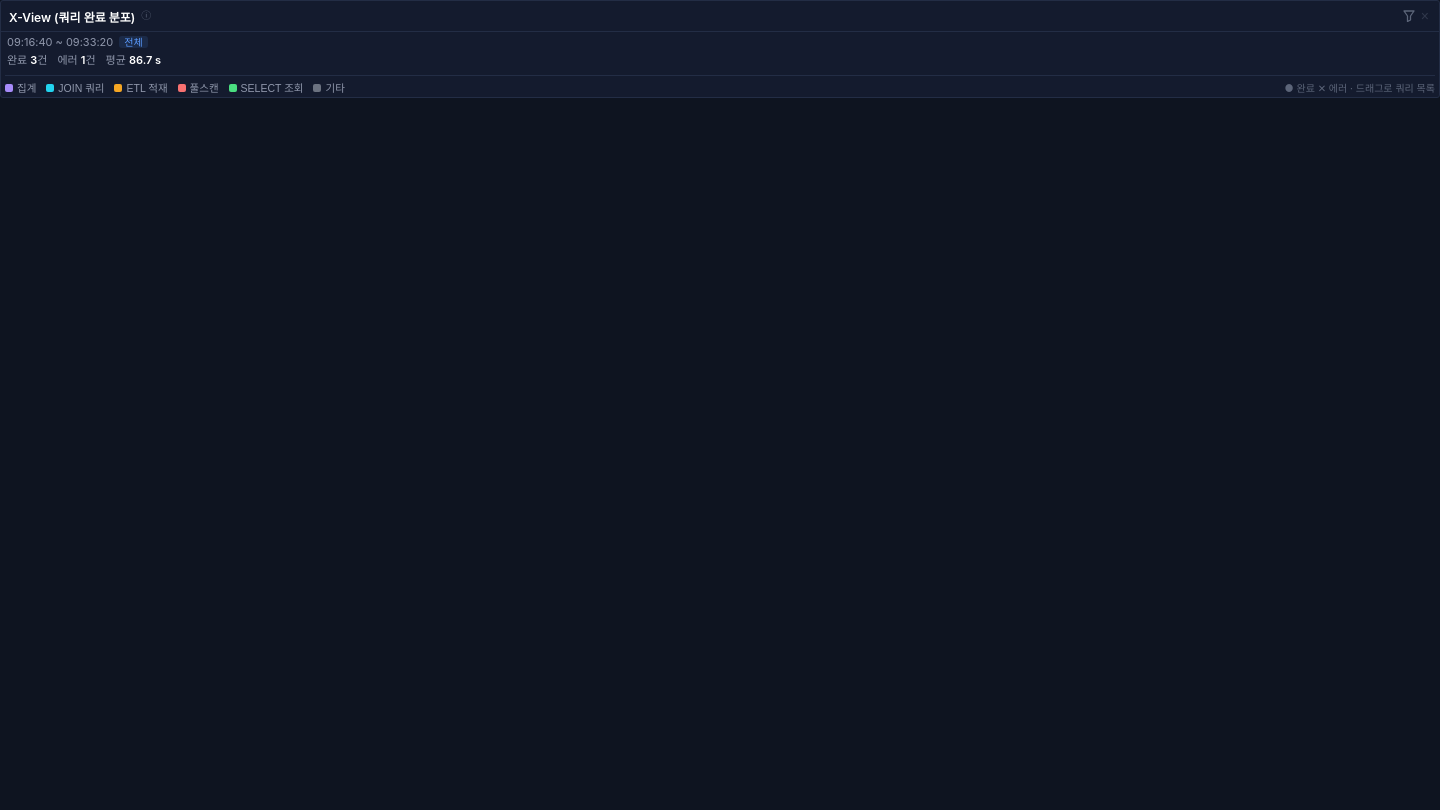
Test: XViewPanel — 요약행은 표시 이벤트 집합에서 계산 (XR-04) › 표시 필터(X4): 아이콘 → 팝오버(상태 2·유형 6칩), 에러 off면 ✕·요약이 함께 빠진다
The width and height of the screenshot is (1440, 810).
Click the button named "표시 필터".
click(1409, 16)  # box [1399,6,1419,26]
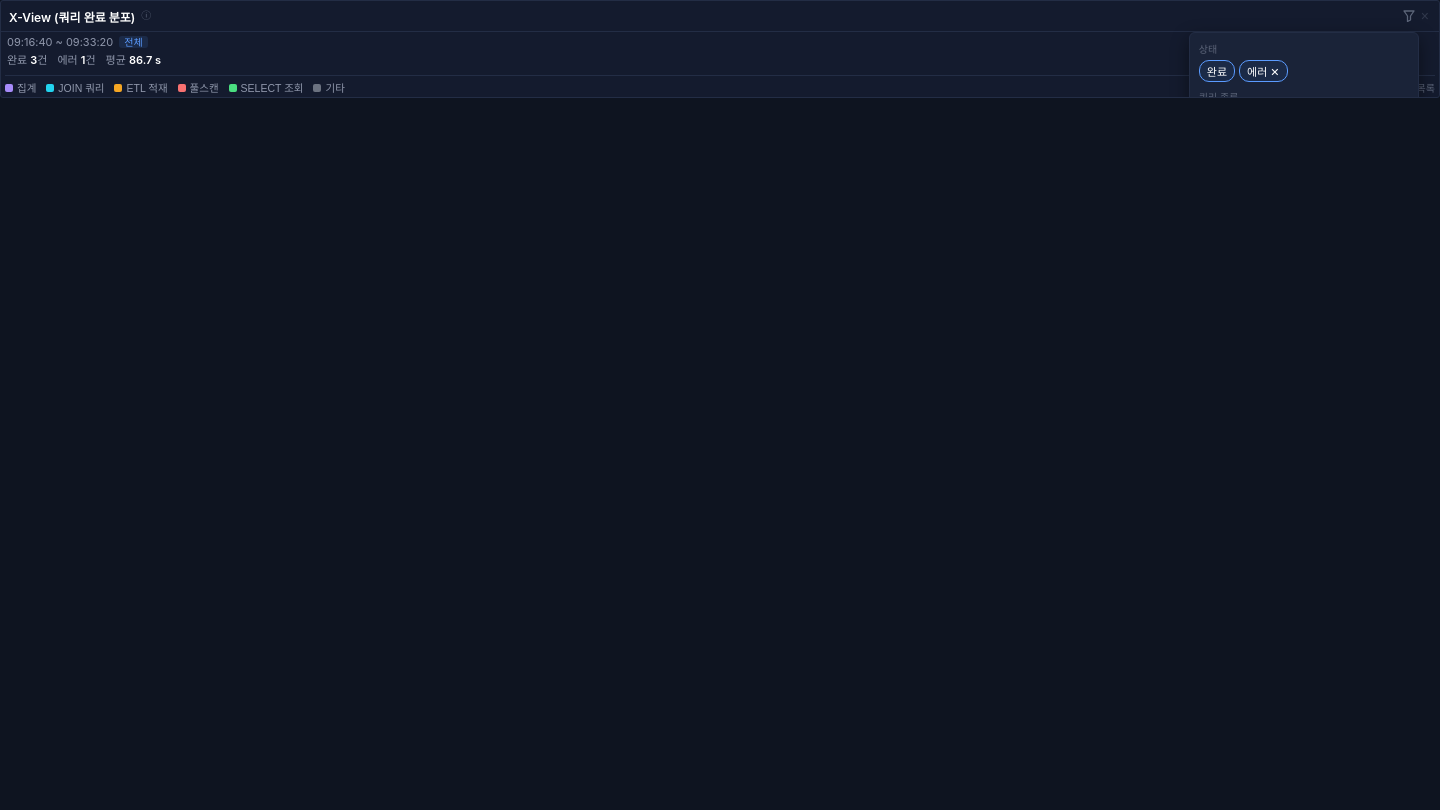
에러 off → ✕ 사라지고 요약행도 같은 집합으로 준다 (XR-04)
Click the button "에러 ✕".
click(1263, 71)  # box [1239,60,1288,82]
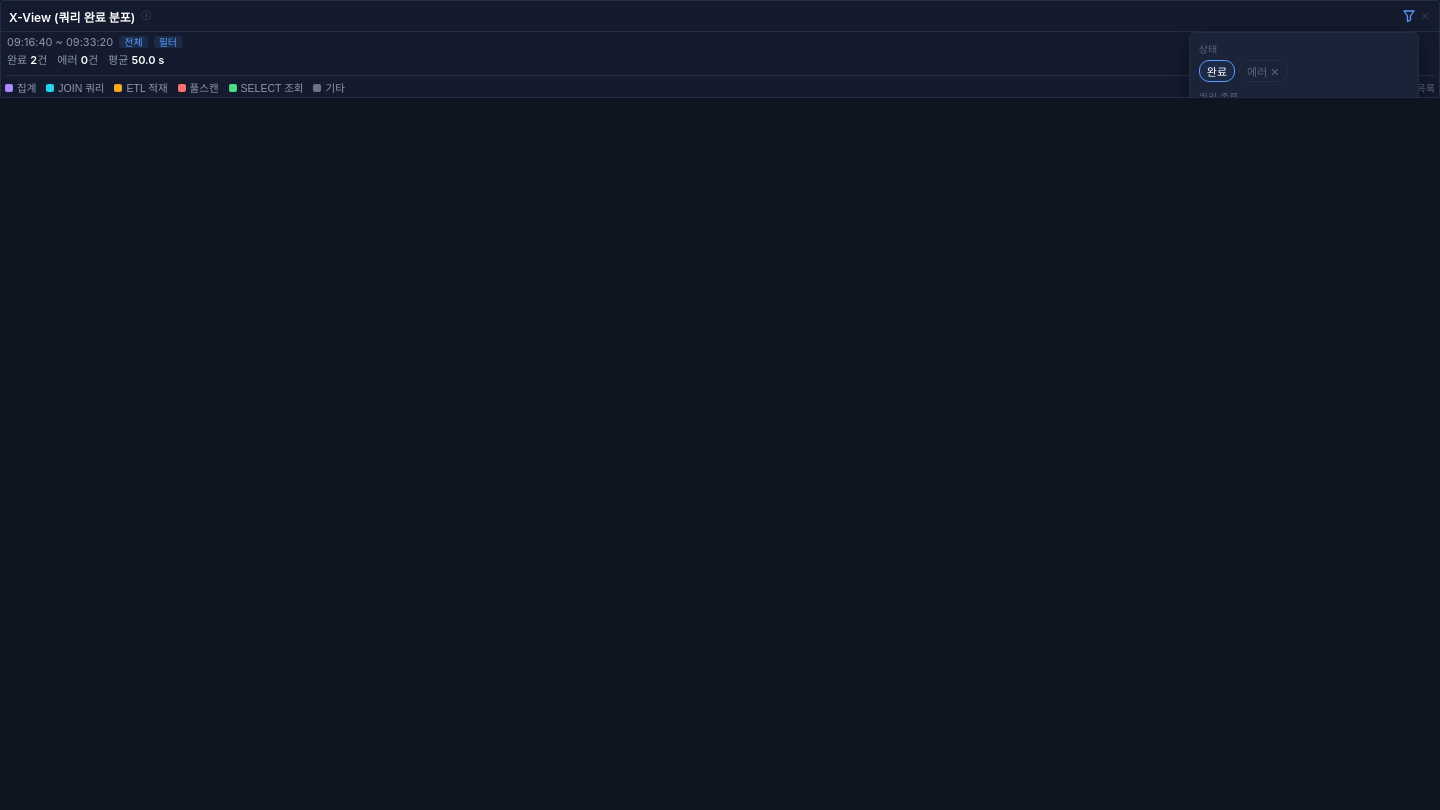
Expected: the element with class "xview__summary" shows "완료 2건", [7,35,182,67]
Expected: the element with class "xview__summary" shows "에러 0건", [7,35,182,67]
Expected: the element with class "xview__summary" shows "필터", [159,36,177,48]
